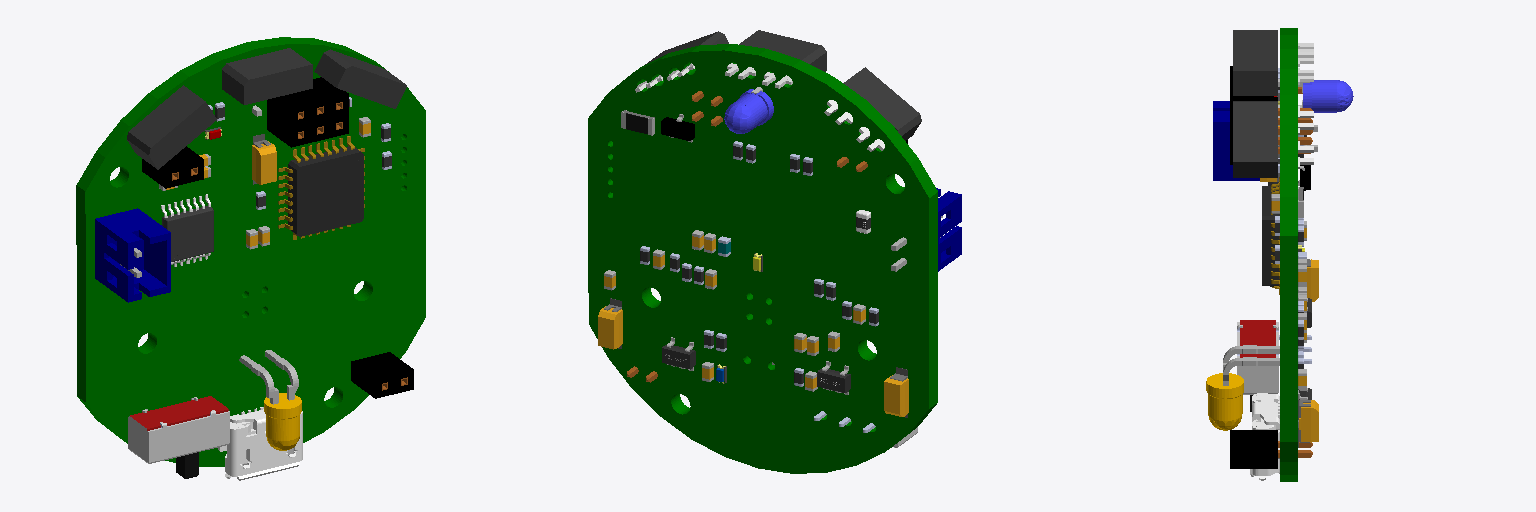
The model's file is CBIIIP2_5ath.obj.
3 renders of one model, left to right at view 1: azimuth 30°, elevation 25°; view 2: azimuth 150°, elevation 25°; view 3: azimuth 270°, elevation 25°, orthographic.
Visible parts, largest first — view 1: PCB; view 2: PCB; view 3: PCB.
Part boxes in pixels (x1,y1,x2,y2): PCB: (76,37,425,480); PCB: (588,30,961,473); PCB: (1206,28,1353,481).
Bounding box in the file's own units: 0.0354 × 0.0411 × 0.0132.